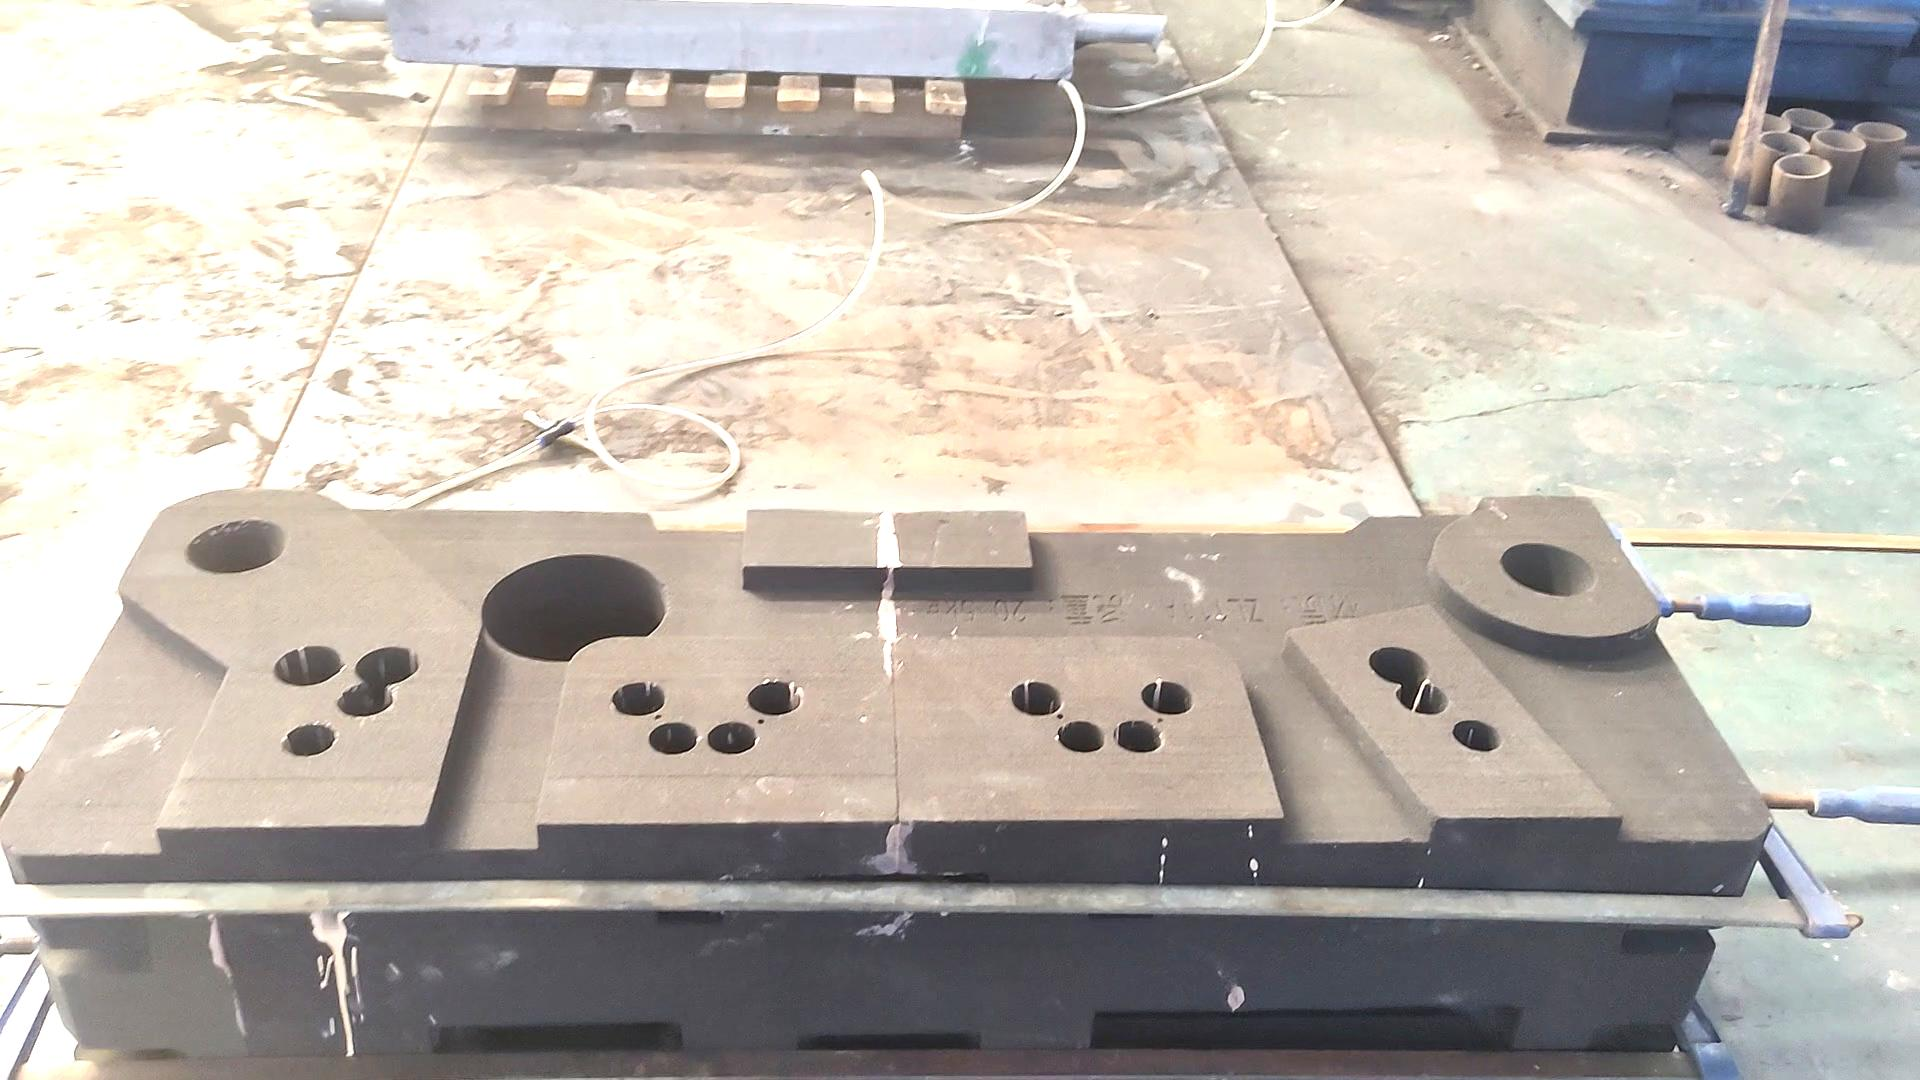pouring hole: (185, 520, 287, 572), (1499, 541, 1593, 595), (1774, 153, 1833, 179), (1755, 132, 1811, 156), (1785, 105, 1836, 131), (1811, 131, 1867, 152), (1741, 111, 1791, 135), (1854, 120, 1907, 141)
